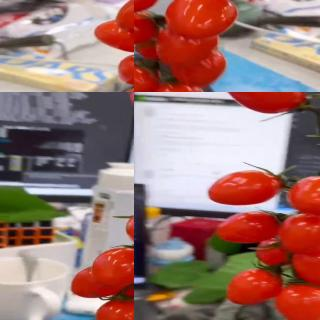tomato: (165, 0, 238, 40), (205, 172, 283, 208), (157, 28, 220, 69), (223, 268, 284, 307), (214, 212, 281, 245), (172, 48, 227, 88), (70, 266, 132, 300), (224, 92, 309, 115), (91, 246, 134, 289), (273, 282, 320, 320), (277, 214, 320, 254), (93, 17, 134, 53), (286, 175, 320, 217), (290, 243, 320, 288), (134, 11, 161, 45), (134, 61, 162, 92), (95, 298, 134, 320), (148, 81, 211, 92), (117, 52, 134, 86)
